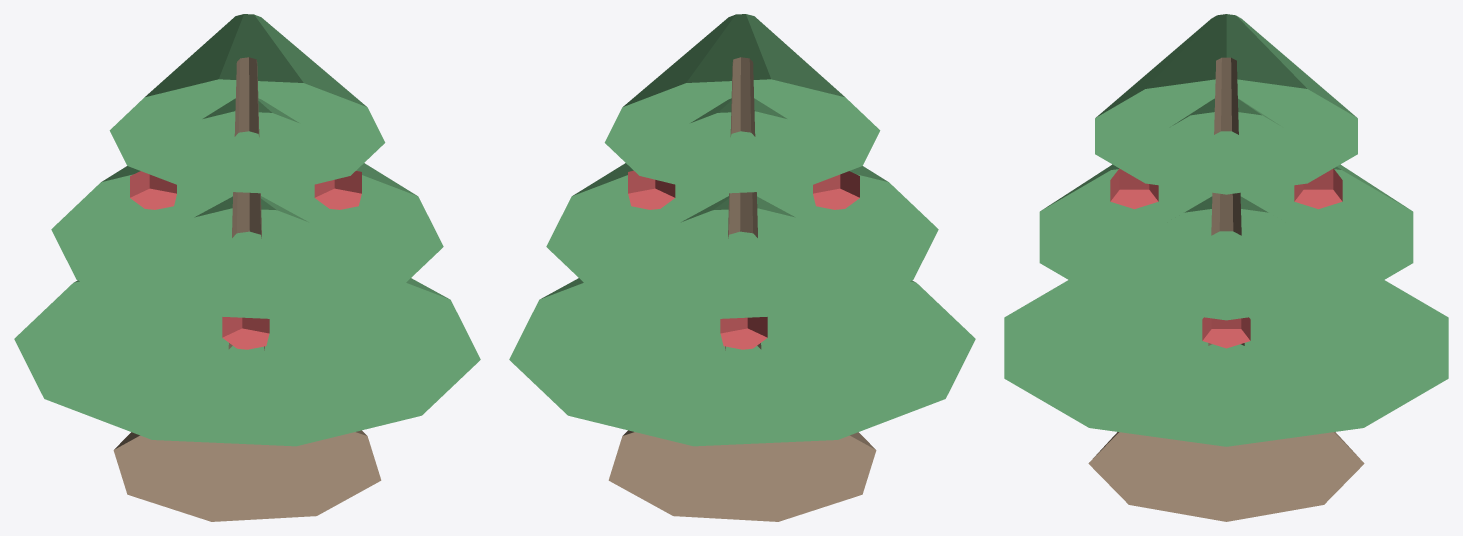
Rendered from flora_34_coffea_arabica_cay_ca_phe_moka_cau_dat_fruiting_bush.glb.
3 renders of one model, left to right at view 1: azimuth 30°, elevation 25°; view 2: azimuth 150°, elevation 25°; view 3: azimuth 270°, elevation 25°, orthographic.
Parts seen in each view (by area): view 1: flora_34_coffea_arabica_cay_ca_phe_moka_cau_dat_fruiting_bus; view 2: flora_34_coffea_arabica_cay_ca_phe_moka_cau_dat_fruiting_bus; view 3: flora_34_coffea_arabica_cay_ca_phe_moka_cau_dat_fruiting_bus.
Boxes of the visible parts, bbox=[...] form: flora_34_coffea_arabica_cay_ca_phe_moka_cau_dat_fruiting_bus: bbox=[14, 14, 480, 521]; flora_34_coffea_arabica_cay_ca_phe_moka_cau_dat_fruiting_bus: bbox=[509, 14, 975, 521]; flora_34_coffea_arabica_cay_ca_phe_moka_cau_dat_fruiting_bus: bbox=[1004, 14, 1448, 521].
Bounding box in the file's own units: 1.76 × 1.84 × 1.67.
